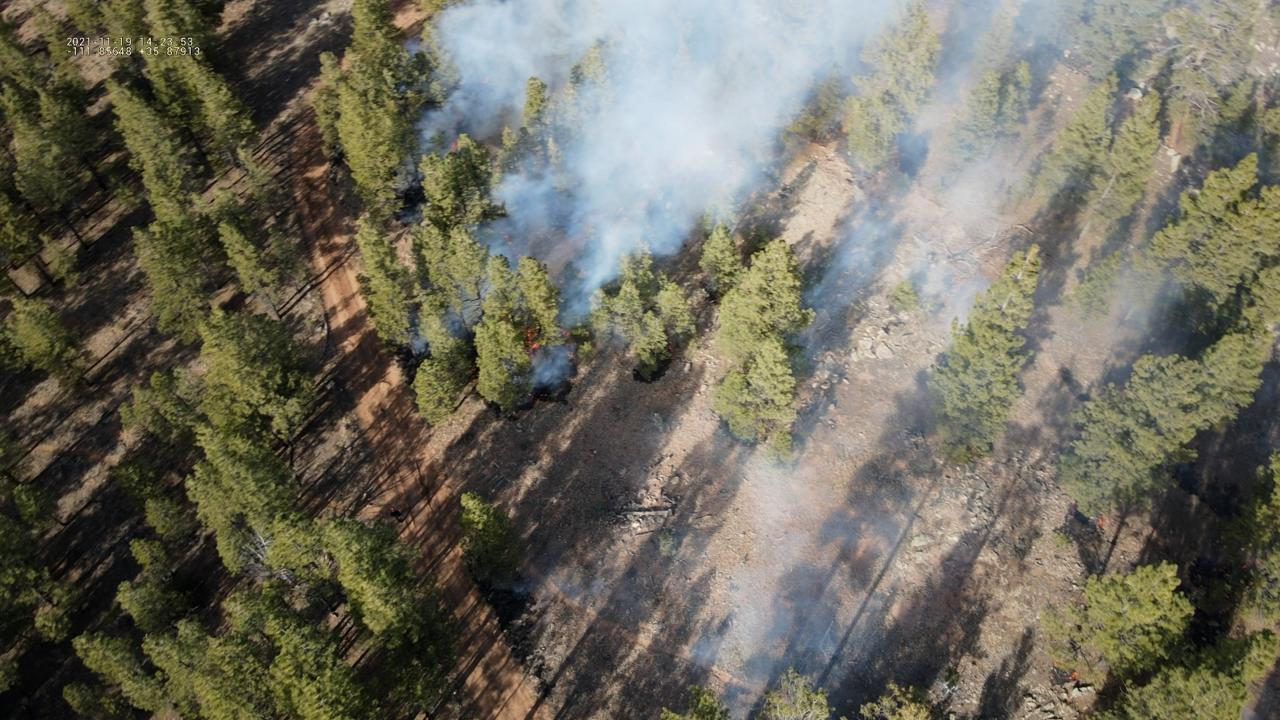fire: (523, 327, 539, 354), (1096, 515, 1105, 531), (560, 324, 571, 337), (448, 142, 459, 154)
smoke: (397, 0, 1280, 403), (679, 457, 880, 720), (510, 582, 528, 595)
